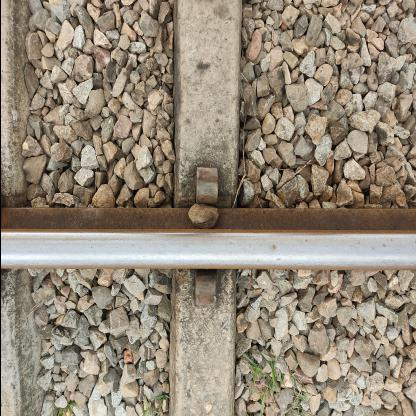Defective 1: (154, 172, 228, 254), (245, 174, 316, 246)
